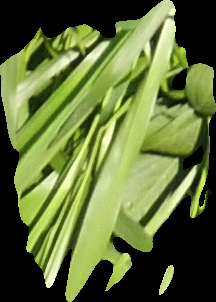grass: (1, 1, 215, 301)
